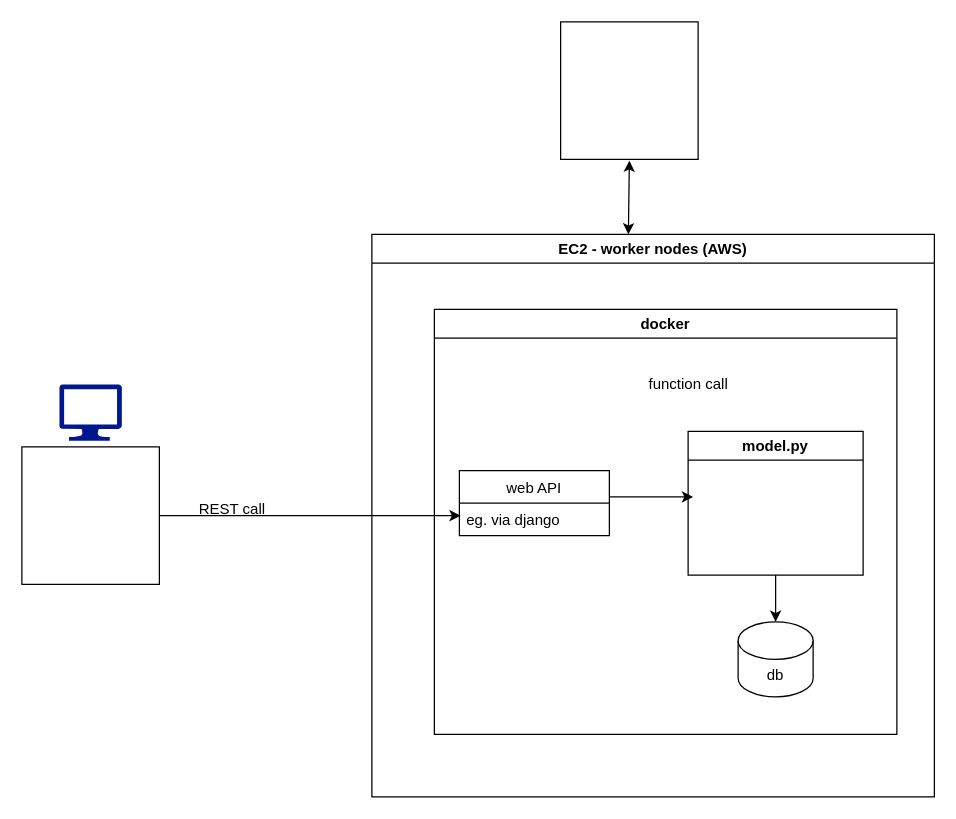
This 956x819 diagram has some shape labels left out. The centre of each missing label's shape, as x and y in pixels:
"EKS" belongs at [628,90].
"Mendix" belongs at [90,515].
